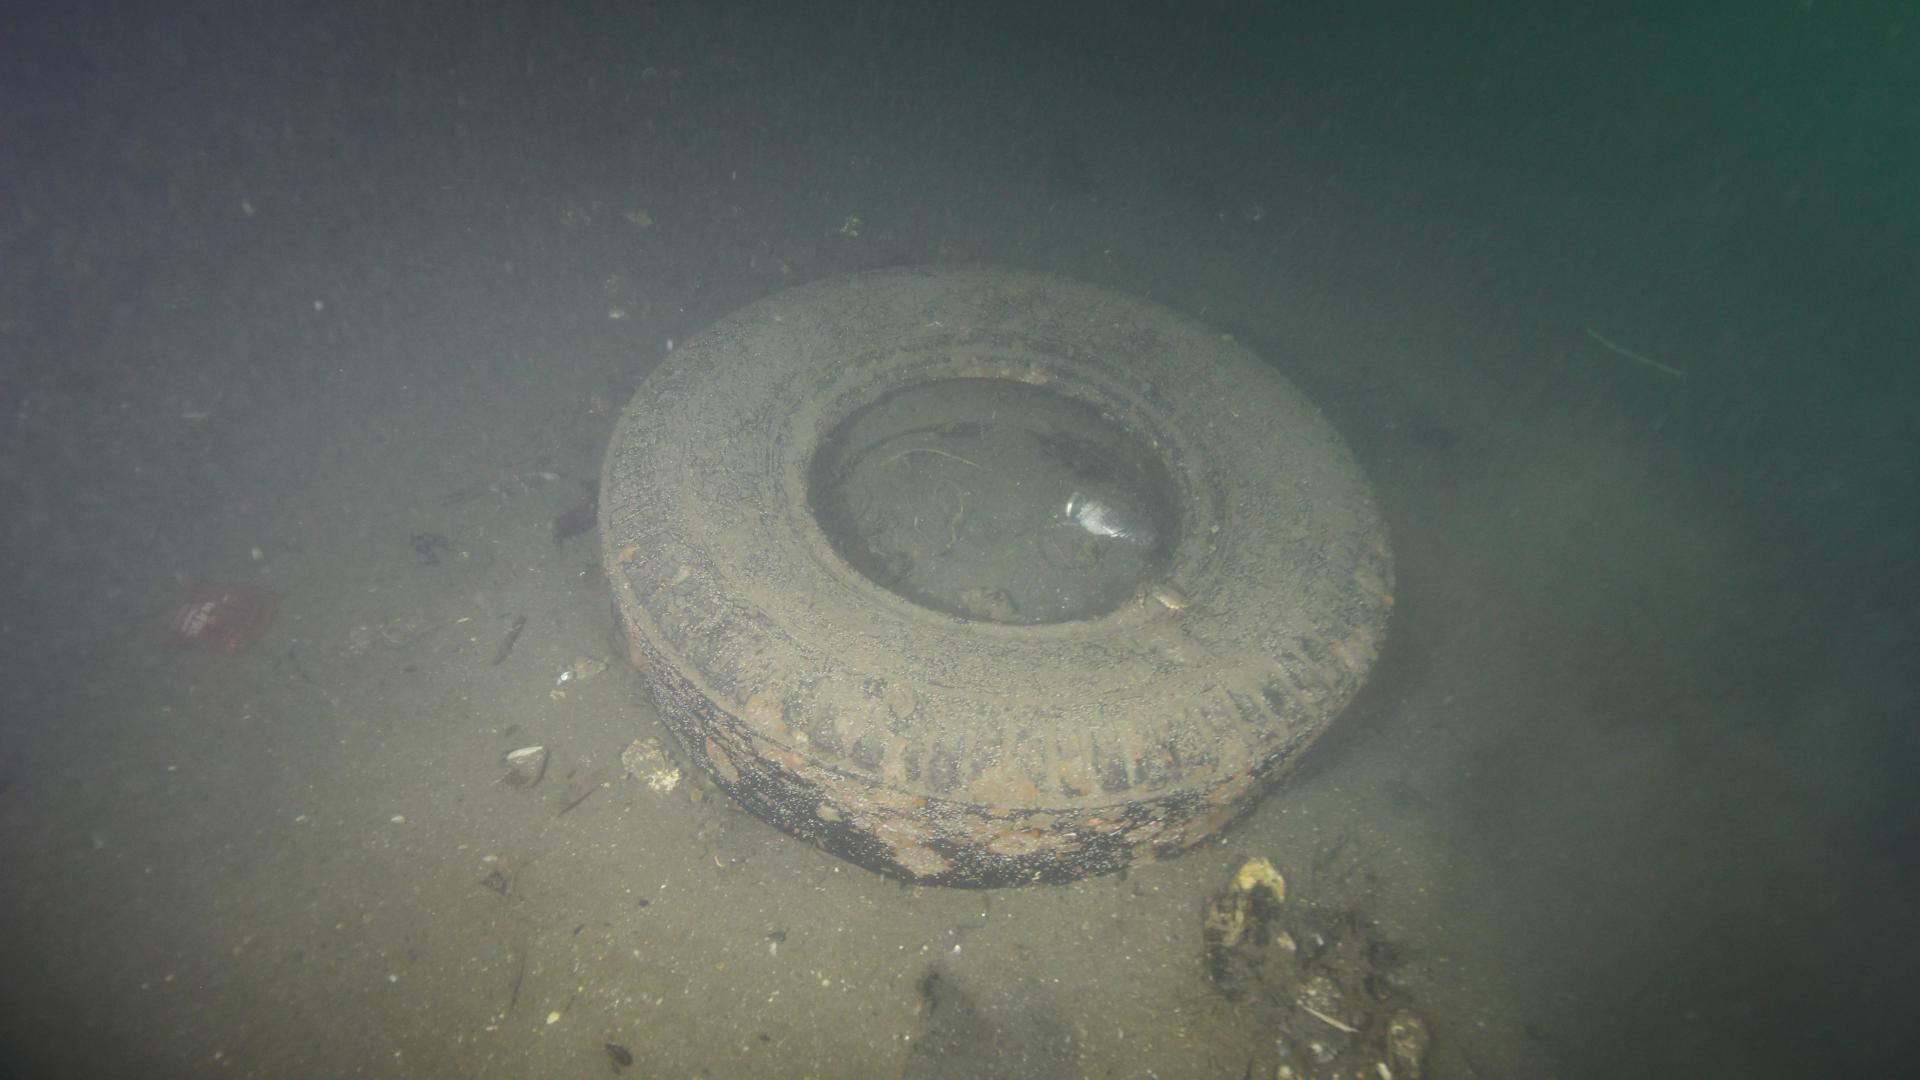tire: (593, 260, 1396, 887)
